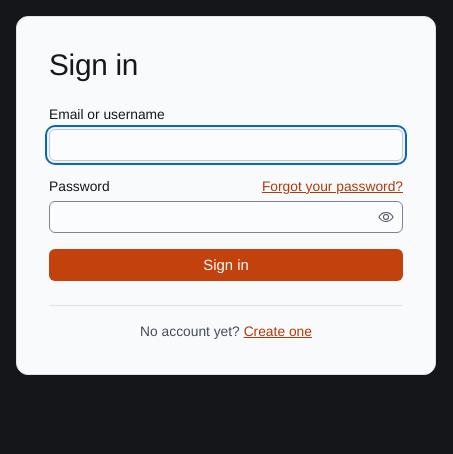
Scenario: LoginPage › reports an unreachable server
Type "ada" into the field labelled "Email or username".
click(226, 145); type("ada")  # box [50,130,402,160]
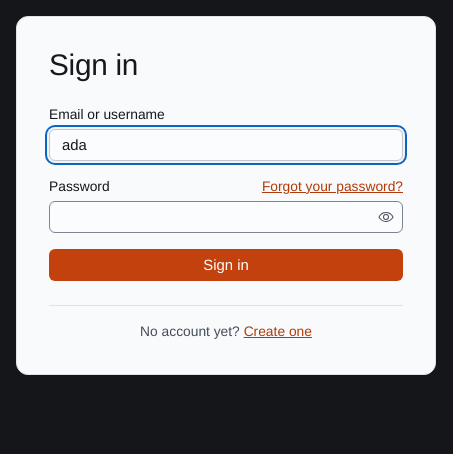
Type "passphrase" into the password field labelled "Password".
click(212, 217); type("passphrase")  # box [50,202,374,232]
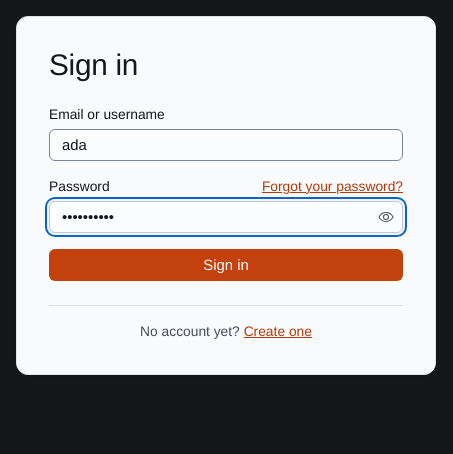
Click the button "Sign in".
click(226, 265)  # box [49,249,403,281]
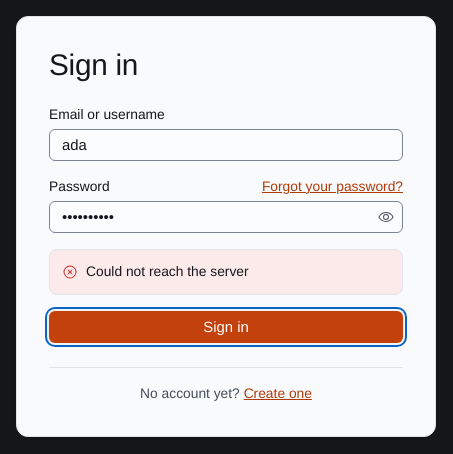
Now the message reads "Could not reach the server", box [86,263,249,280]
